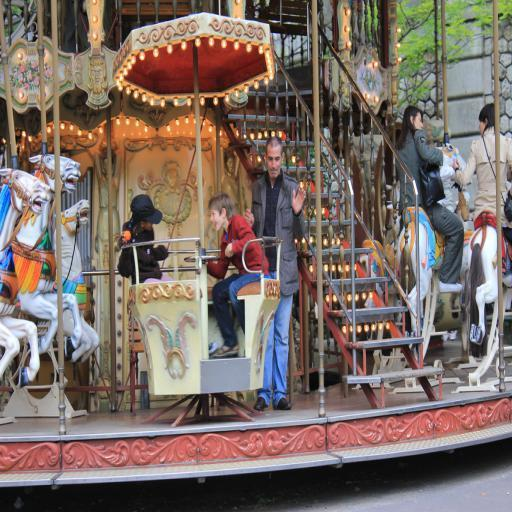horse: (397, 140, 471, 350), (10, 152, 82, 360), (18, 196, 99, 364), (0, 166, 51, 392), (466, 210, 512, 346)
